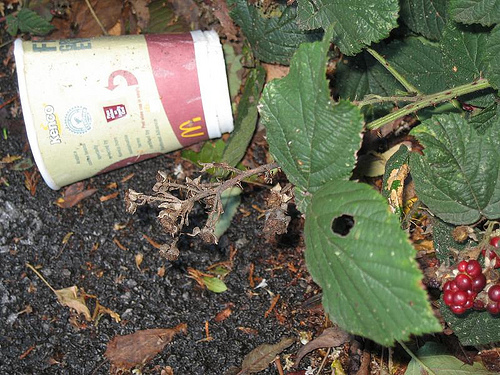litter: (11, 37, 236, 193)
